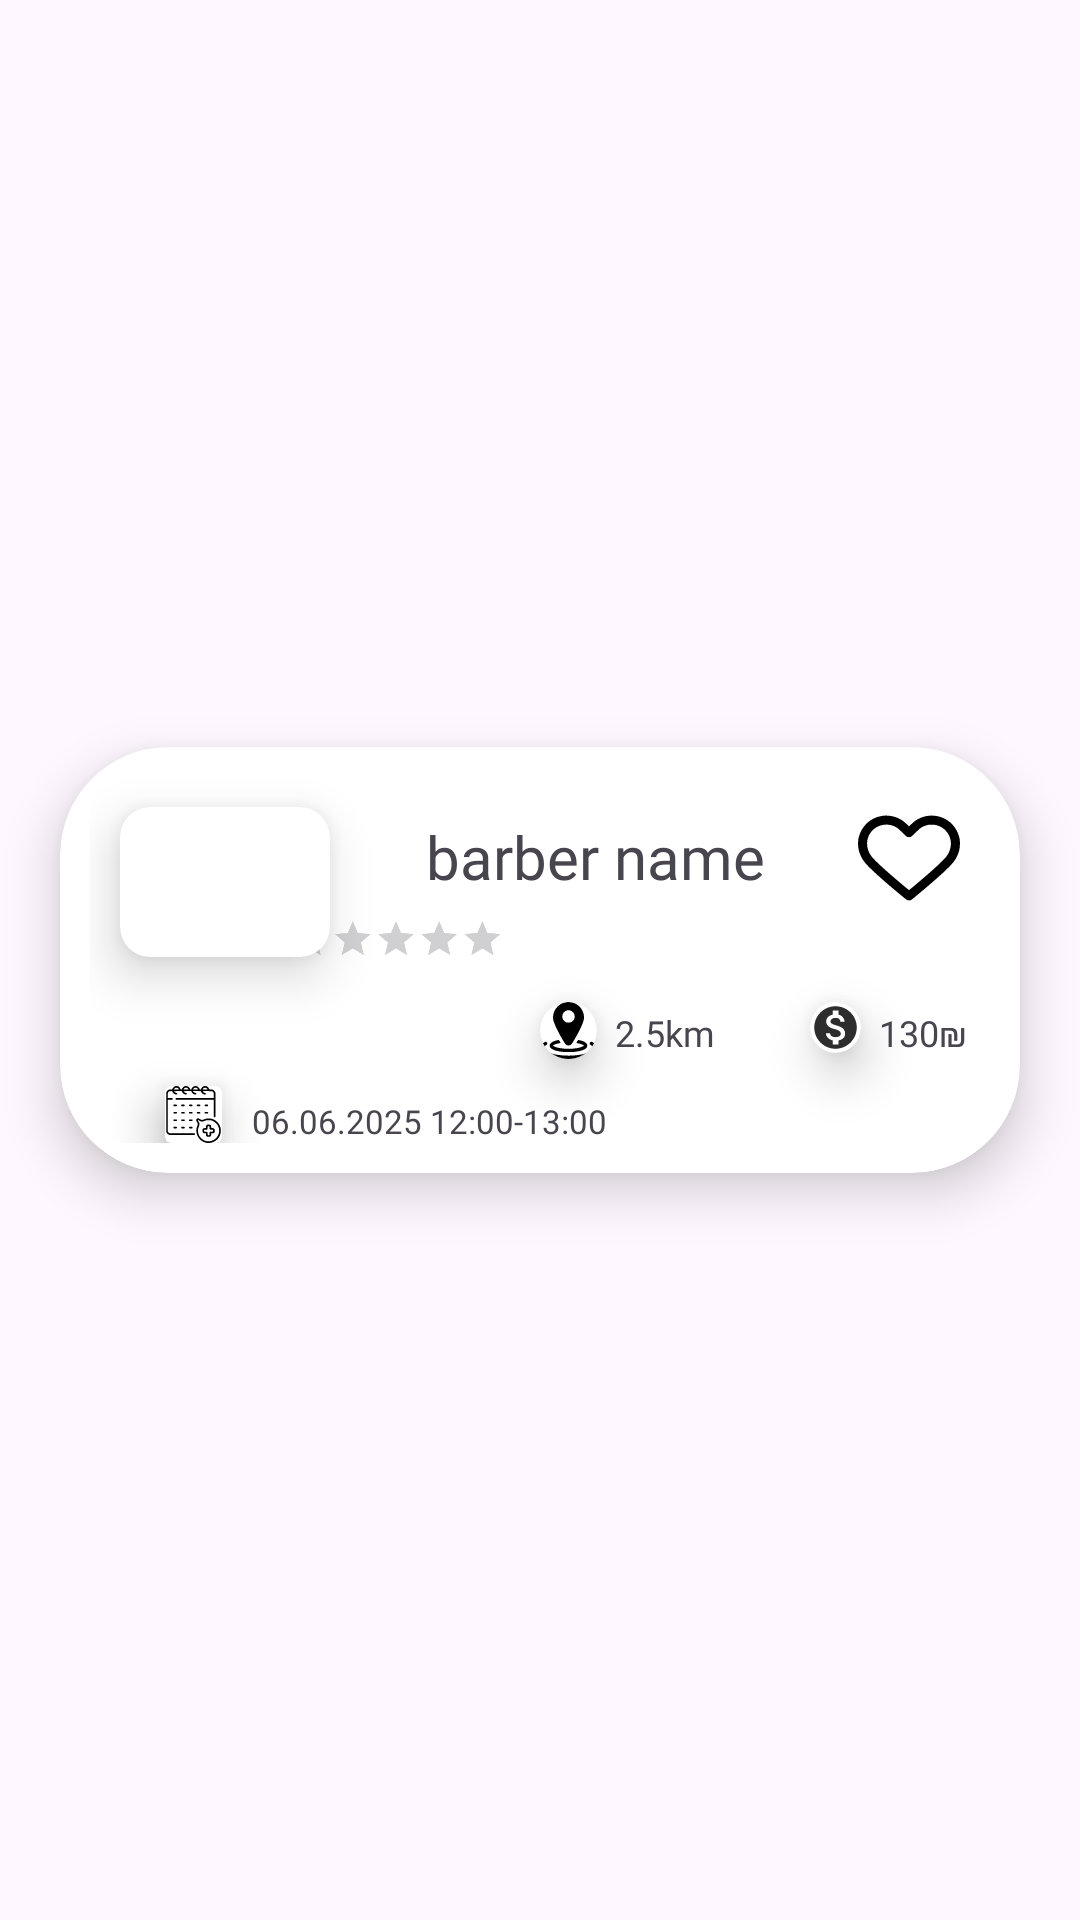

Icon click points for this 1080*1920 phone screenshot, format (x,y):
dollar: (835,1029)
heart item empty: (909,858)
location: (568,1030)
schedule: (193,1114)
